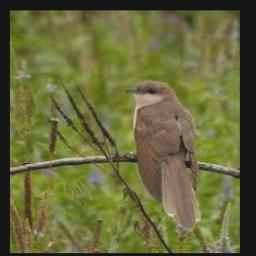Cuckoo: (124, 80, 201, 230)
